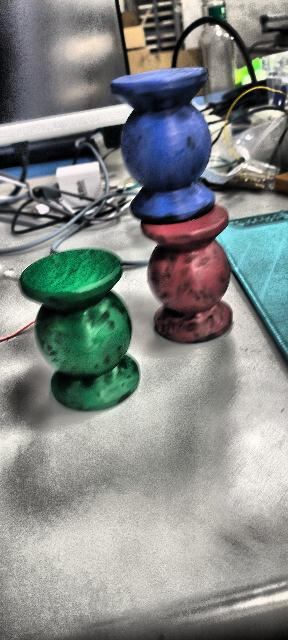blue: (110, 66, 216, 224)
green: (12, 239, 152, 410)
red: (138, 210, 246, 342)
